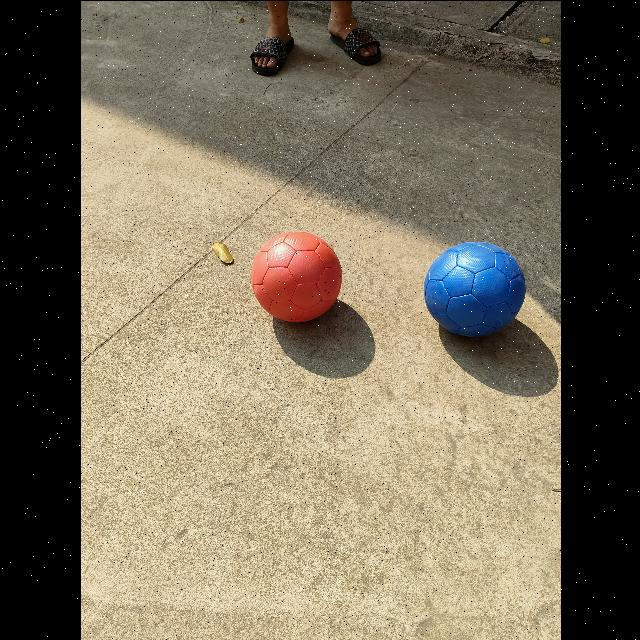B: (422, 240, 524, 336)
R: (251, 230, 341, 322)
